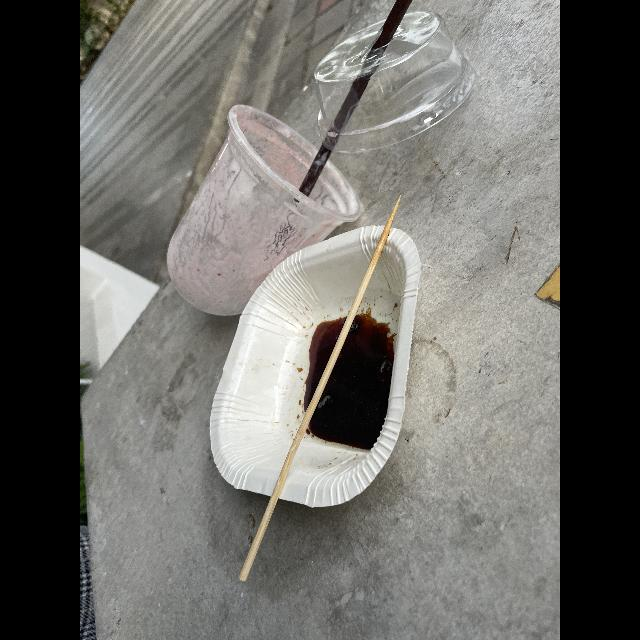cardboard_bowl: (189, 224, 423, 502)
plastic_cup: (140, 90, 356, 330)
plastic_cup_lid: (296, 0, 479, 150)
stick: (228, 180, 422, 595)
straw: (283, 0, 426, 218)
